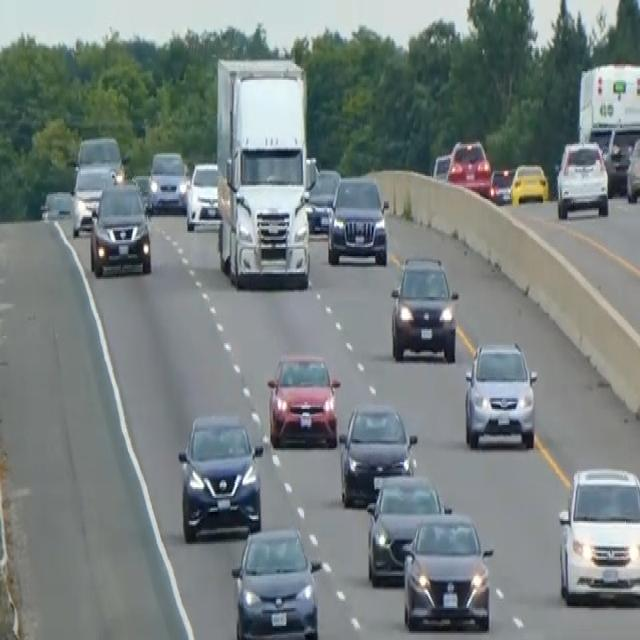car: (557, 462, 639, 606), (177, 410, 264, 540), (401, 510, 493, 631), (230, 524, 321, 638), (365, 471, 449, 585), (463, 338, 538, 450), (338, 402, 417, 505), (389, 252, 459, 362), (266, 348, 340, 448), (89, 178, 152, 277), (326, 172, 388, 265), (555, 138, 609, 218), (71, 162, 119, 236), (446, 137, 491, 195), (147, 150, 187, 213), (185, 160, 220, 231), (605, 122, 639, 194), (306, 165, 340, 235), (74, 133, 123, 176), (509, 160, 549, 204), (39, 188, 72, 222), (488, 166, 514, 204), (625, 133, 639, 203), (130, 170, 151, 212), (431, 151, 451, 181)
lorry: (214, 53, 315, 290)
